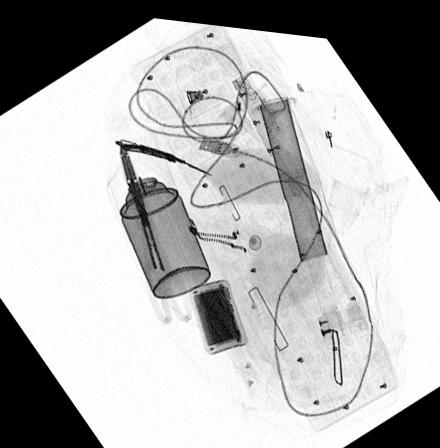Knife: (117, 136, 211, 167)
Powerbank: (187, 273, 248, 351)
Scissors: (120, 135, 193, 320)
Sprayer: (104, 151, 211, 293)
